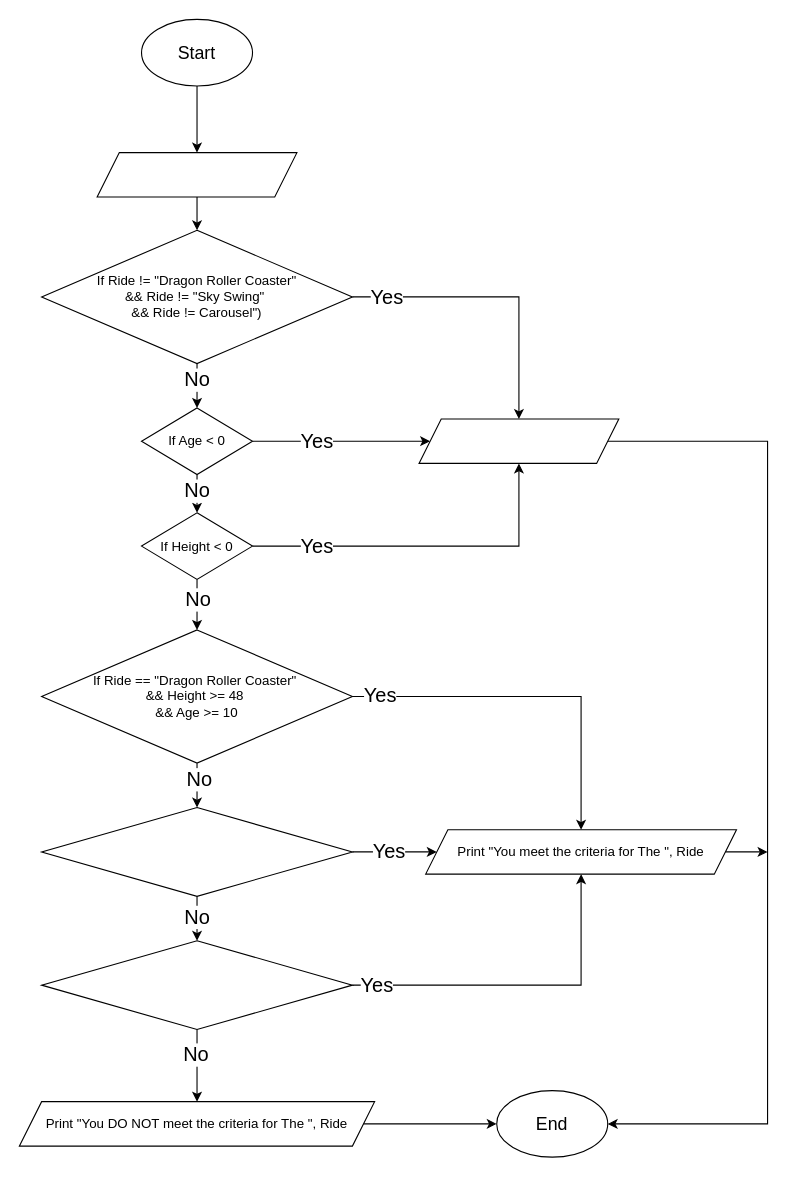
This 796x1177 diagram has some shape labels left out. The shapes that lost their labels are listed below. From the top down, each one's centre as x and y in pixels, then its label:
the point at 196,174: Read Age, Height, Ride
the point at 518,440: Print "Invalid input"
the point at 196,851: If Ride == "Sky Swing" && Height >= 4
the point at 196,985: If Ride == "Carousel" && Age >= 5
